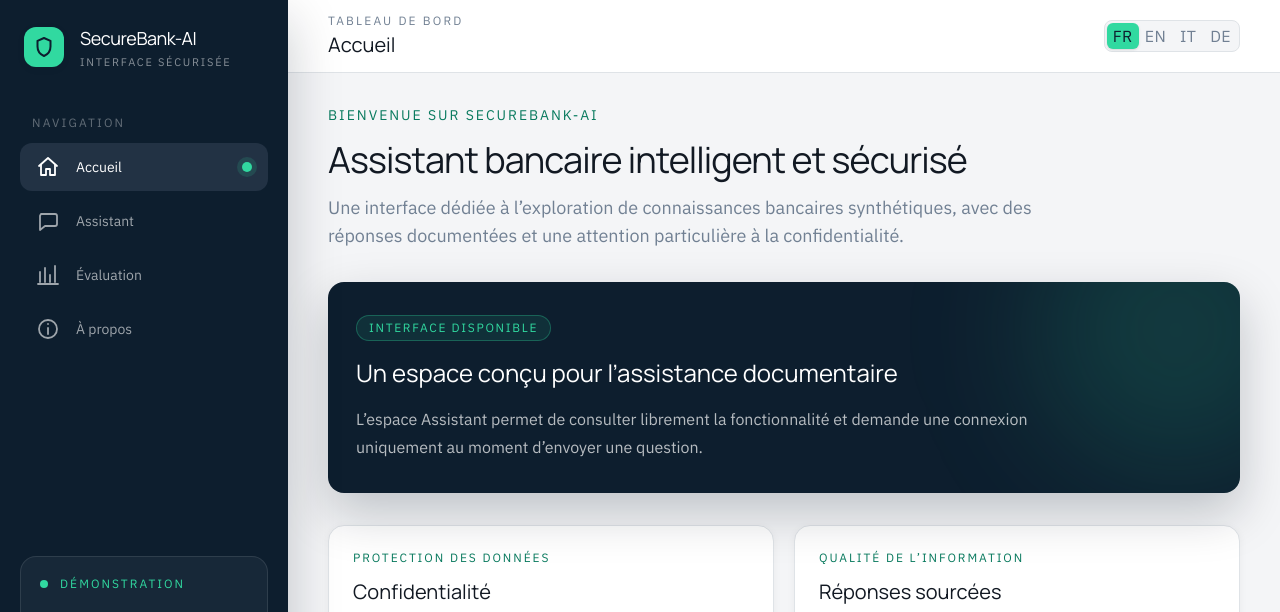
App navigation › navigates to the assistant and back home
The image size is (1280, 612).
Click the link "Assistant".
click(85, 220)  # box top-left (36, 208), bottom-right (134, 232)
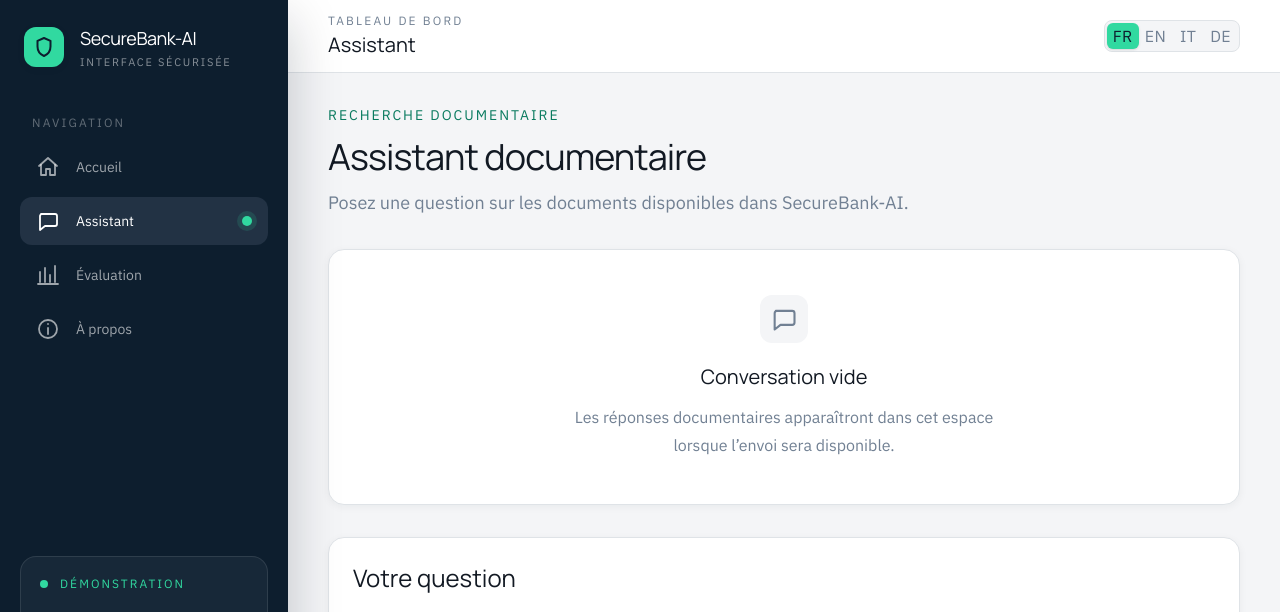
Now the heading "Assistant documentaire" is shown, box top-left (328, 132), bottom-right (706, 181)
Click the link "Accueil".
click(79, 166)  # box top-left (36, 154), bottom-right (122, 178)
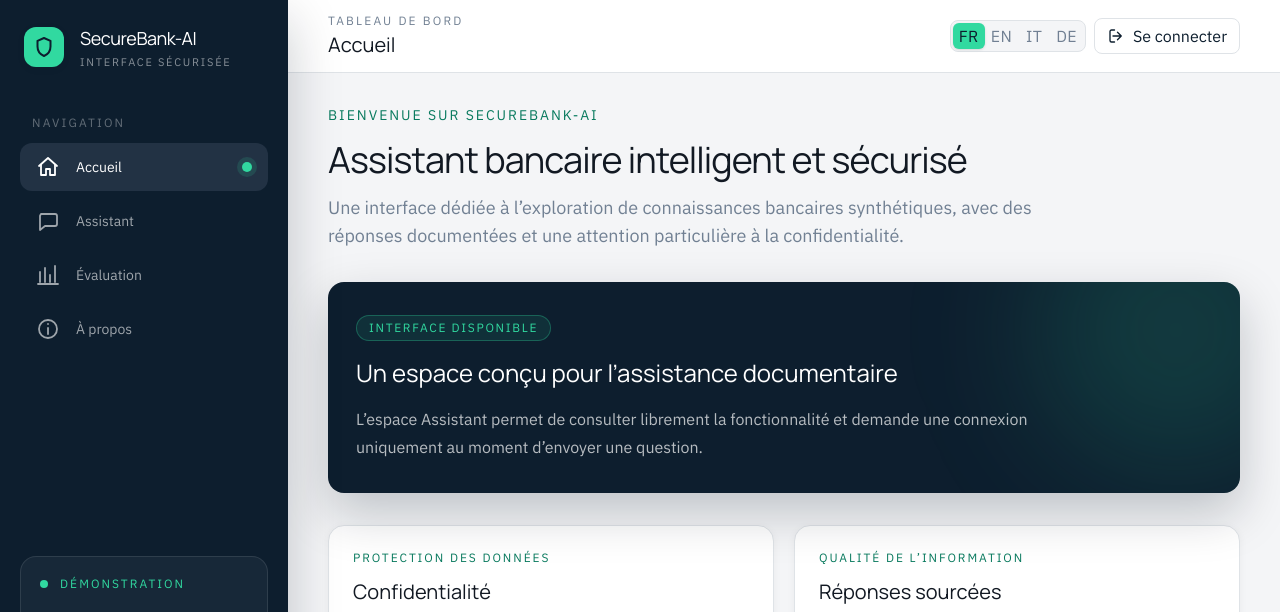
Now the heading "Assistant bancaire intelligent et sécurisé" is shown, box top-left (328, 135), bottom-right (967, 184)
